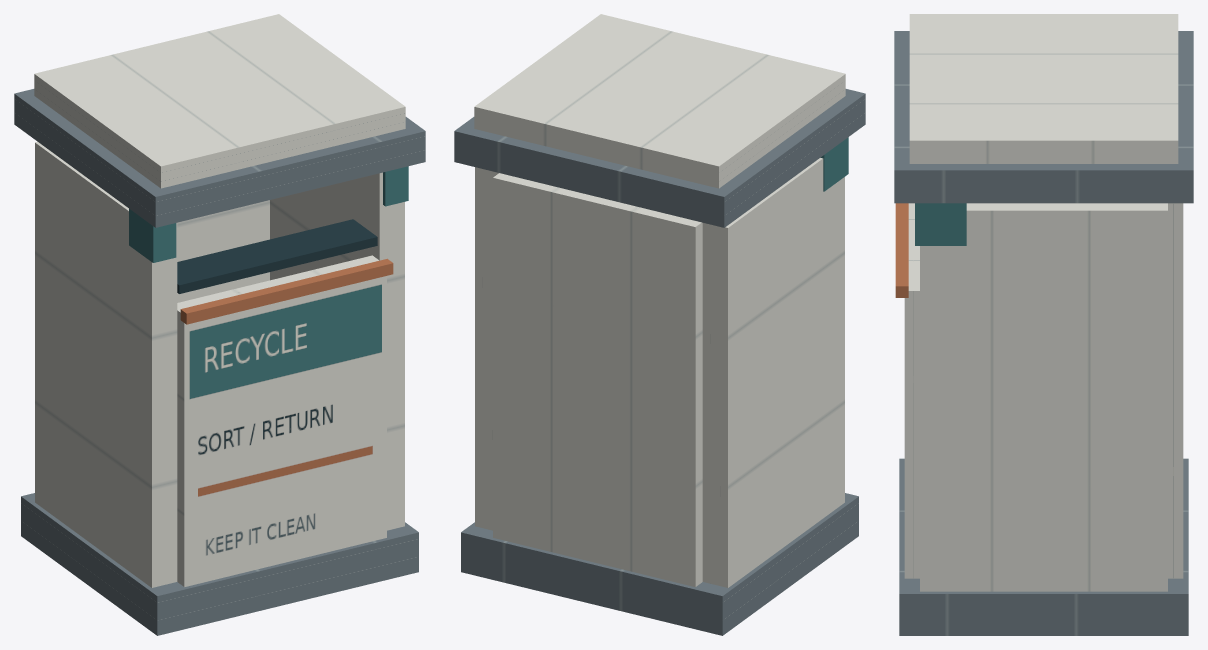
The model's file is TorusWasteBin_A.obj.
3 views of the same model, side by side, from view 1: azimuth 30°, elevation 25°; view 2: azimuth 150°, elevation 25°; view 3: azimuth 270°, elevation 25° (orthographic). The views are drawn at different scales.
Visible parts, largest first — view 1: TorusWasteBin_A; view 2: TorusWasteBin_A; view 3: TorusWasteBin_A.
Boxes of the visible parts, left/top/right/bottom form: TorusWasteBin_A: left=14, top=14, right=425, bottom=635; TorusWasteBin_A: left=454, top=14, right=865, bottom=635; TorusWasteBin_A: left=894, top=14, right=1193, bottom=635.
Size of the model in its own units: 0.16 by 0.2625 by 0.145.
Materials: 1 (1 with a texture image).
